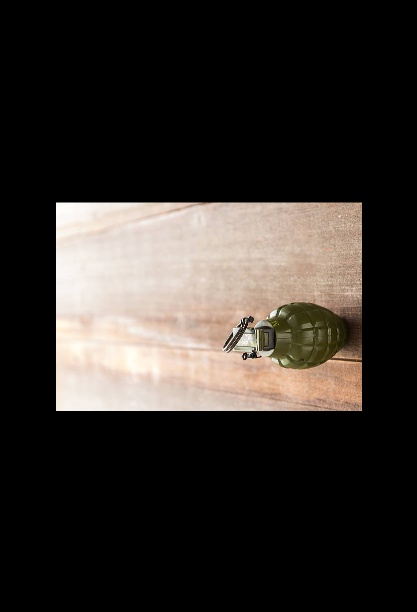e1: (222, 292, 351, 372)
